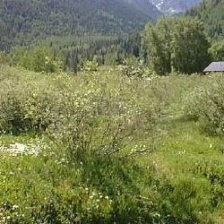neutral: (2, 3, 223, 222)
